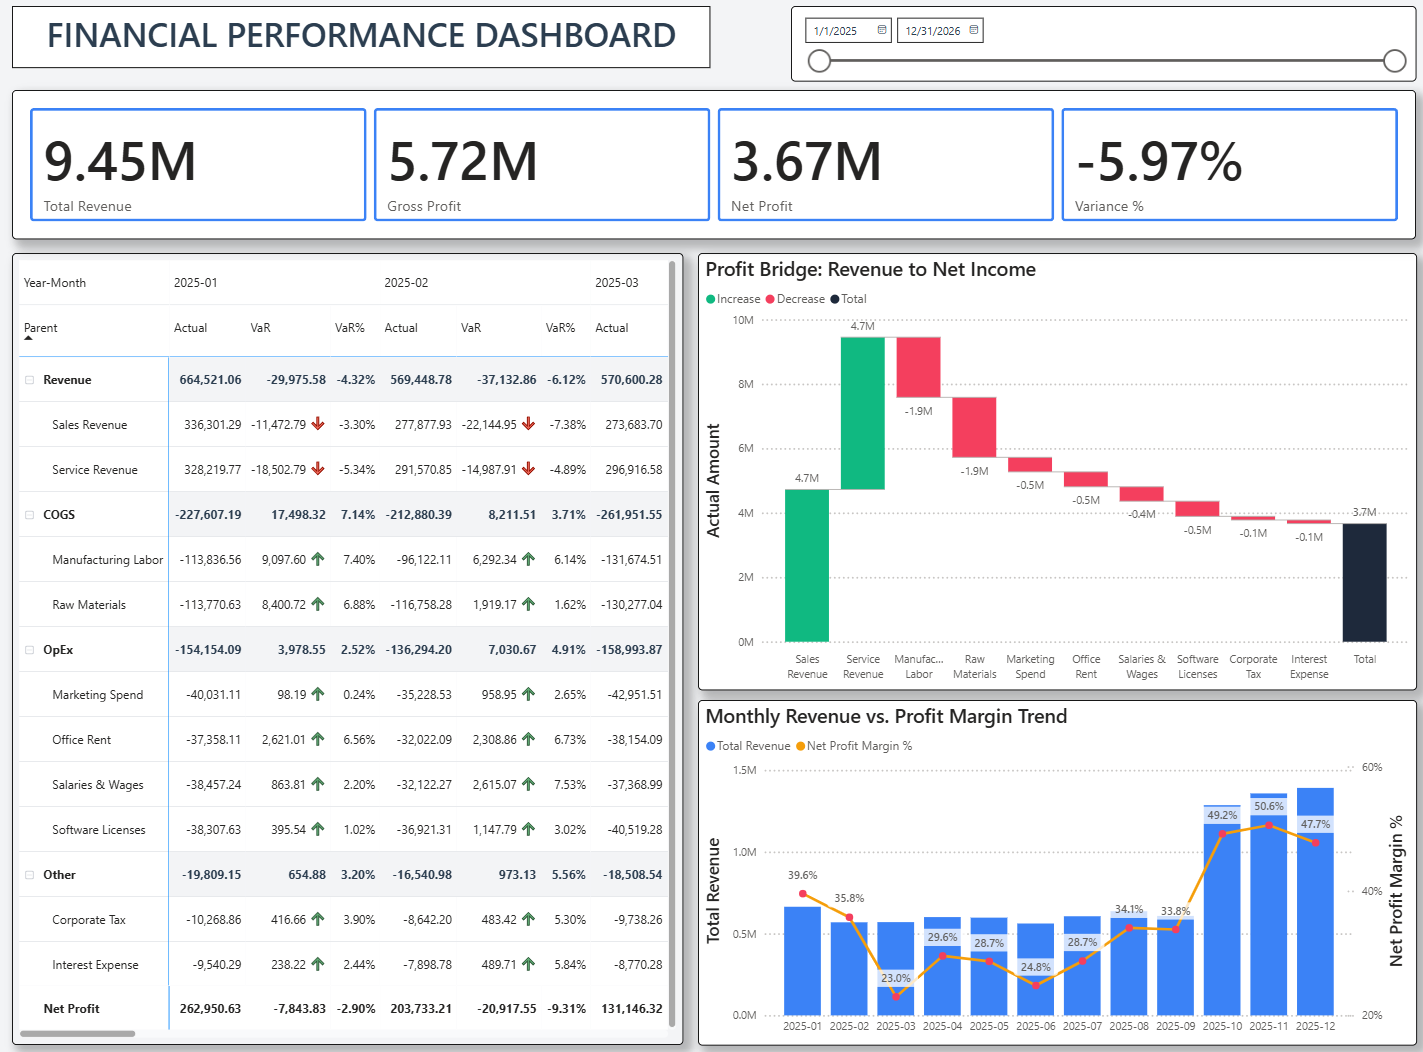

This screenshot's page, from the dashboard's own definition file:
{"tool":"powerbi","page":{"name":"Page 1","canvas":[1600,1200],"ordinal":0},"visuals":[{"type":"pivotTable","fields":{"Rows":["Finance_Dim_Accounts.Parent","Finance_Dim_Accounts.Account_Name"],"Values":["_Key Measures.Actual Amount","_Key Measures.Variance","_Key Measures.Variance %"],"Columns":["Dim_Date.Year-Month"]},"box":[23.8,283.8,746.2,880],"z":0},{"type":"waterfallChart","title":"Profit Bridge: Revenue to Net Income","fields":{"Category":["Finance_Dim_Accounts.Account_Name"],"Y":["_Key Measures.Actual Amount"]},"box":[785,283.8,798.8,486.2],"z":1000},{"type":"lineClusteredColumnComboChart","title":"Monthly Revenue vs. Profit Margin Trend","fields":{"Category":["Dim_Date.Year-Month"],"Y":["_Key Measures.Total Revenue"],"Y2":["_Key Measures.Net Profit Margin %"]},"box":[785,780,798.8,383.8],"z":2000},{"type":"cardVisual","fields":{"Data":["_Key Measures.Total Revenue","_Key Measures.Gross Profit","_Key Measures.Net Profit","_Key Measures.Variance %"]},"box":[23.8,102.5,1560,166.2],"z":3000},{"type":"textbox","box":[23.8,8.8,776.2,68.8],"z":4000},{"type":"slicer","fields":{"Values":["Dim_Date.Date"]},"box":[888.8,8.8,695,83.8],"z":5000}]}

Visuals, with their boxes in screenshot pixels (x1, y1, x2, y2), scaled from the page's 1600x1200 canvas onto the 1423x1052 screenshot:
pivotTable - Finance_Dim_Accounts.Parent x Finance_Dim_Accounts.Account_Name: l=21, t=249, r=685, b=1020
"Profit Bridge: Revenue to Net Income" waterfallChart: l=698, t=249, r=1409, b=675
"Monthly Revenue vs. Profit Margin Trend" lineClusteredColumnComboChart: l=698, t=684, r=1409, b=1020
cardVisual - _Key Measures.Total Revenue x _Key Measures.Gross Profit: l=21, t=90, r=1409, b=236
textbox: l=21, t=8, r=712, b=68
slicer - Dim_Date.Date: l=790, t=8, r=1409, b=81
